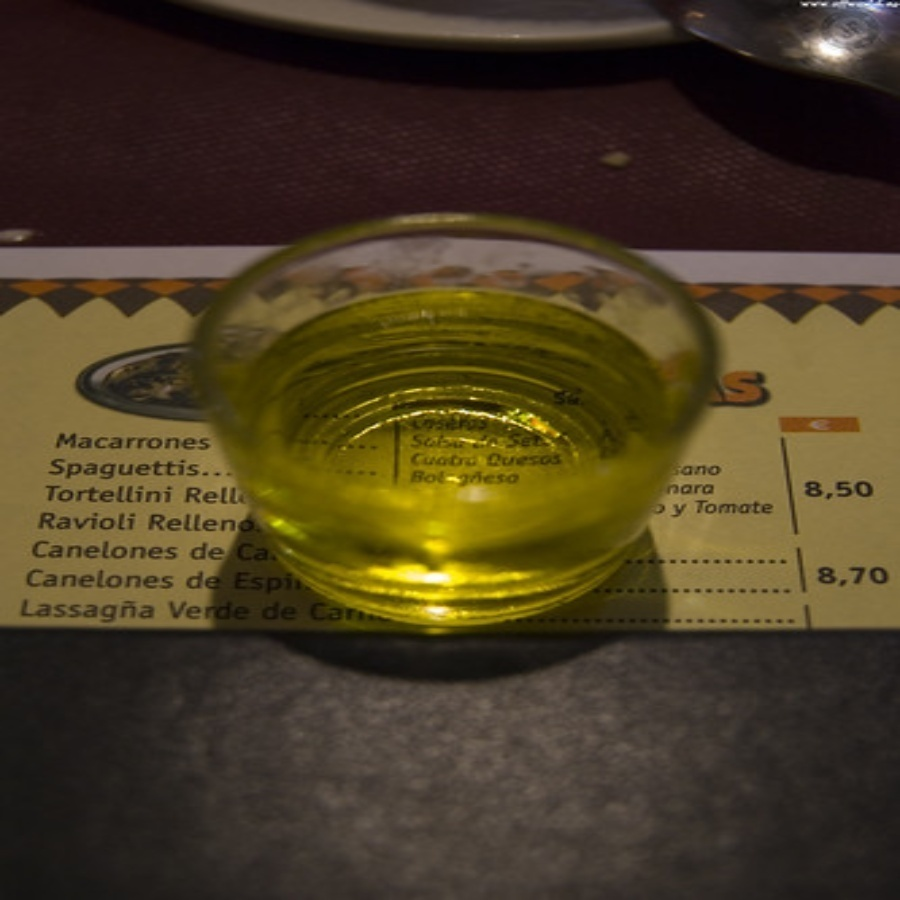whiskey: (212, 204, 689, 652)
